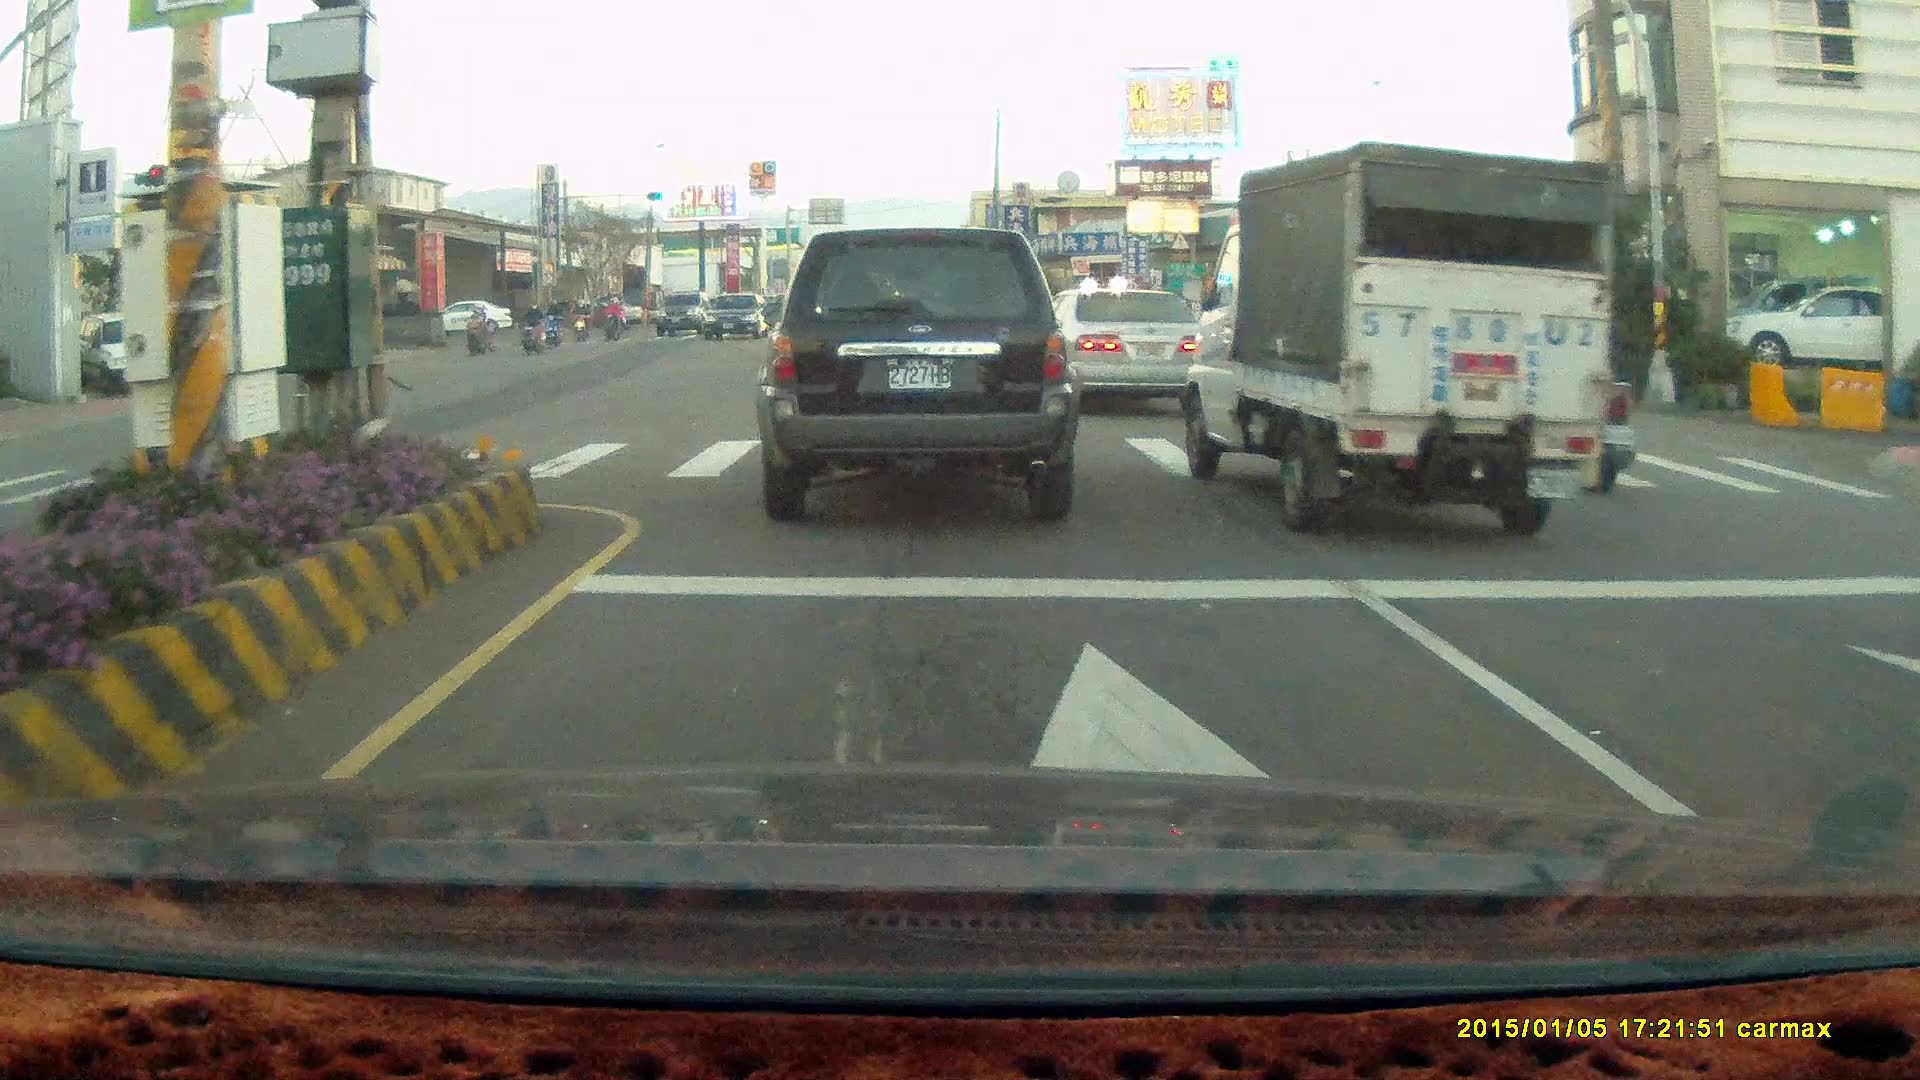rider: (460, 302, 497, 358), (517, 304, 546, 358), (541, 295, 565, 349), (570, 295, 593, 339), (603, 297, 623, 339)
vehicle: (1185, 140, 1616, 539), (753, 226, 1081, 527), (1027, 287, 1211, 413), (1053, 289, 1217, 420), (1717, 282, 1919, 376), (1732, 286, 1885, 375), (64, 314, 172, 391), (700, 294, 771, 345), (442, 300, 514, 338)
